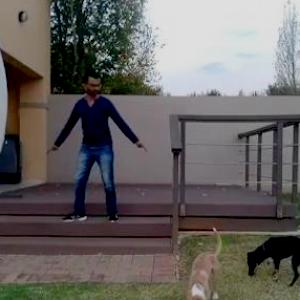land: (57, 72, 129, 234)
